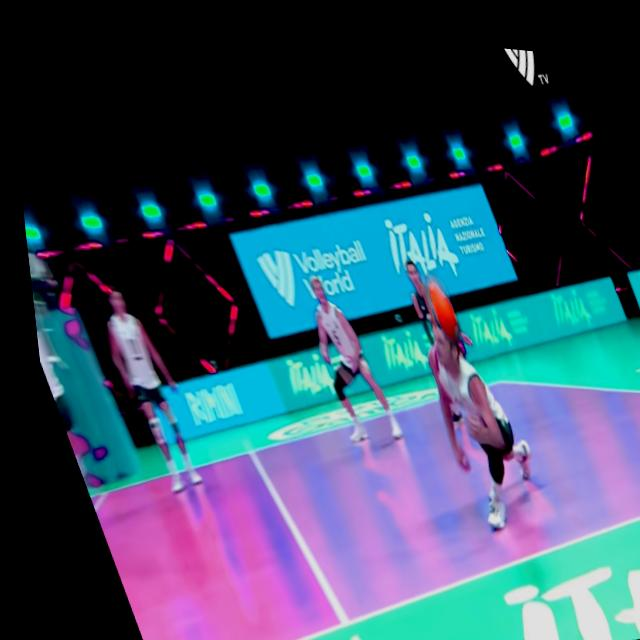player: (398, 305, 545, 527), (80, 273, 201, 493), (282, 259, 399, 447), (391, 249, 440, 326)
